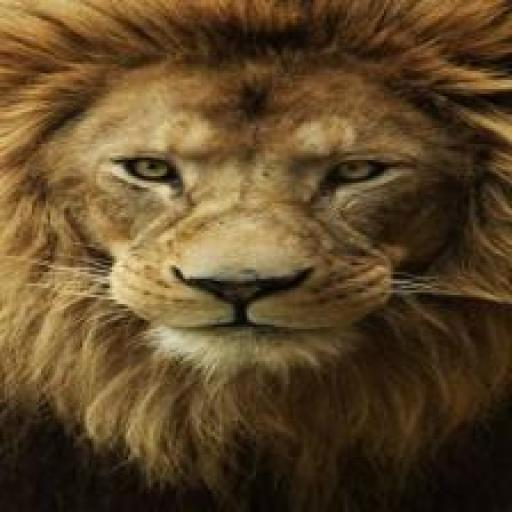lion: (7, 30, 507, 398)
